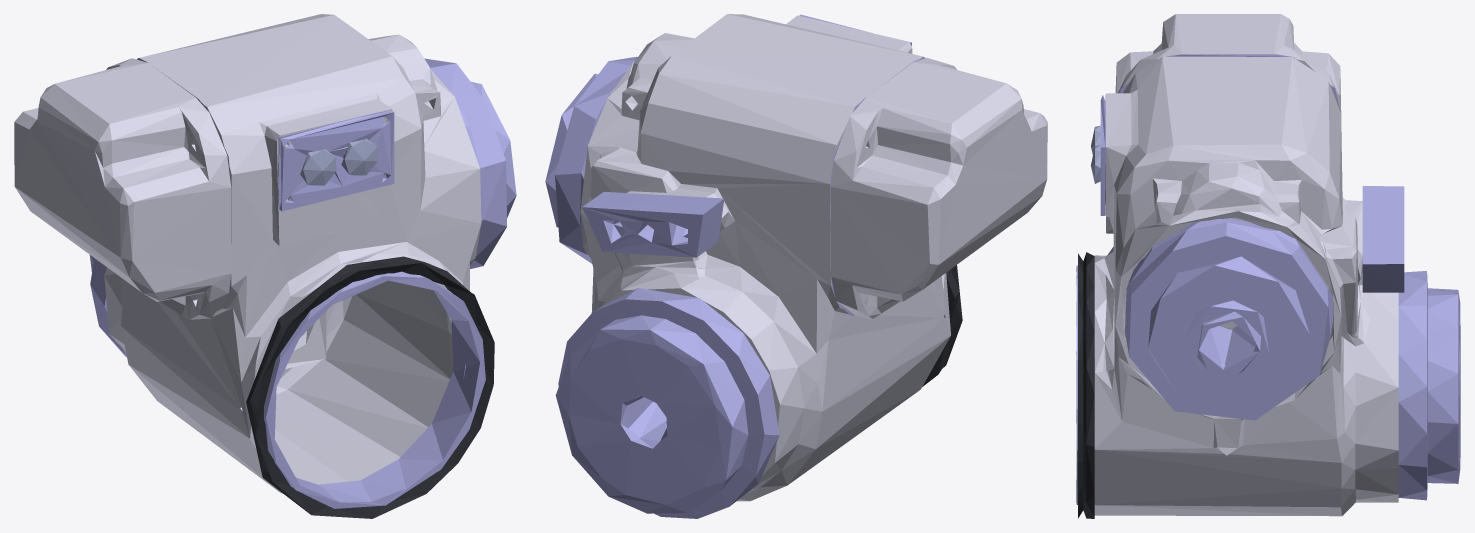
The picture shows the model from 3 angles, left to right: view 1: azimuth 30°, elevation 25°; view 2: azimuth 150°, elevation 25°; view 3: azimuth 270°, elevation 25°; orthographic projection. The views are drawn at different scales.
Visible parts, largest first — view 1: J4; view 2: J4; view 3: J4.
Part boxes in pixels (<box>): J4: <box>14,14,516,518</box>; J4: <box>545,14,1047,518</box>; J4: <box>1076,14,1460,518</box>.
Bounding box in the file's own units: 0.3262 × 0.2681 × 0.3031.
